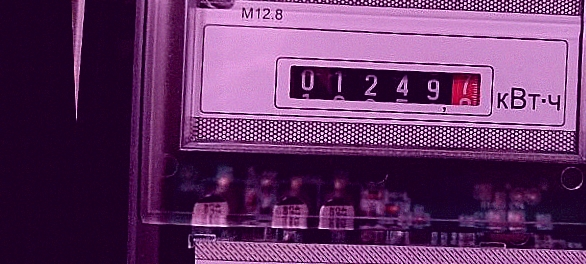0: (299, 65, 317, 92)
1: (331, 67, 346, 93)
2: (361, 72, 379, 98)
4: (394, 71, 411, 97)
7: (458, 70, 474, 96)
9: (423, 75, 441, 102)
screen: (271, 46, 498, 128)
